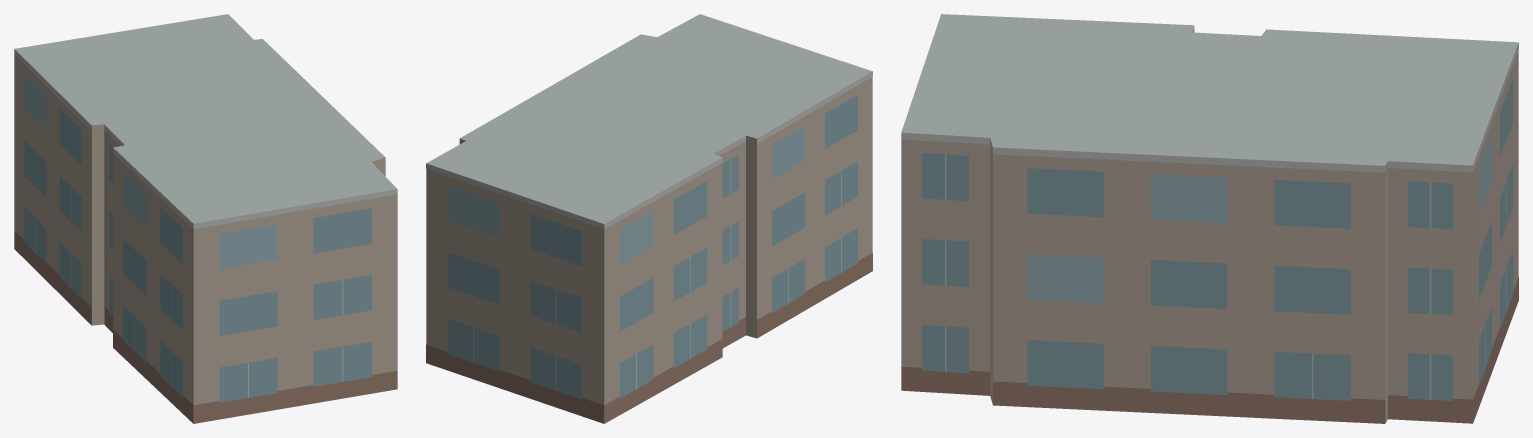
The model's file is survey-upis-32758240.glb.
3 renders of one model, left to right at view 1: azimuth 30°, elevation 25°; view 2: azimuth 150°, elevation 25°; view 3: azimuth 270°, elevation 25°, orthographic. The views are drawn at different scales.
Visible parts, largest first — view 1: survey-upis-32758240.tmp; view 2: survey-upis-32758240.tmp; view 3: survey-upis-32758240.tmp.
Part boxes in pixels (bbox=[...]): survey-upis-32758240.tmp: bbox=[14, 14, 397, 423]; survey-upis-32758240.tmp: bbox=[426, 14, 872, 423]; survey-upis-32758240.tmp: bbox=[901, 14, 1518, 423].
Size of the model in its own units: 11.56 by 9.15 by 19.86.
